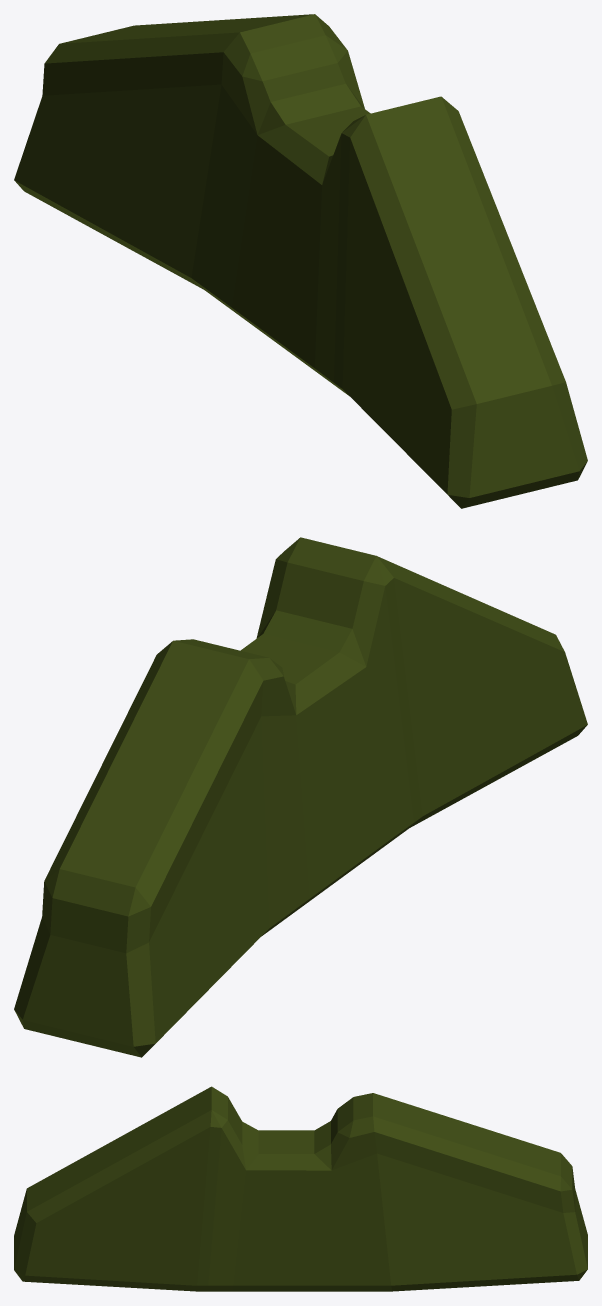
Rendered from mountain.fbx.
The picture shows the model from 3 angles, top to bottom: view 1: azimuth 30°, elevation 25°; view 2: azimuth 150°, elevation 25°; view 3: azimuth 270°, elevation 25°; orthographic projection. The views are drawn at different scales.
Visible parts, largest first — view 1: Cube.001; view 2: Cube.001; view 3: Cube.001.
Boxes of the visible parts, x1,y1,x2,y2 form: Cube.001: (14, 14, 587, 508); Cube.001: (14, 537, 587, 1057); Cube.001: (14, 1086, 587, 1291).
Bounding box in the file's own units: 3042 × 4501 × 13375.
